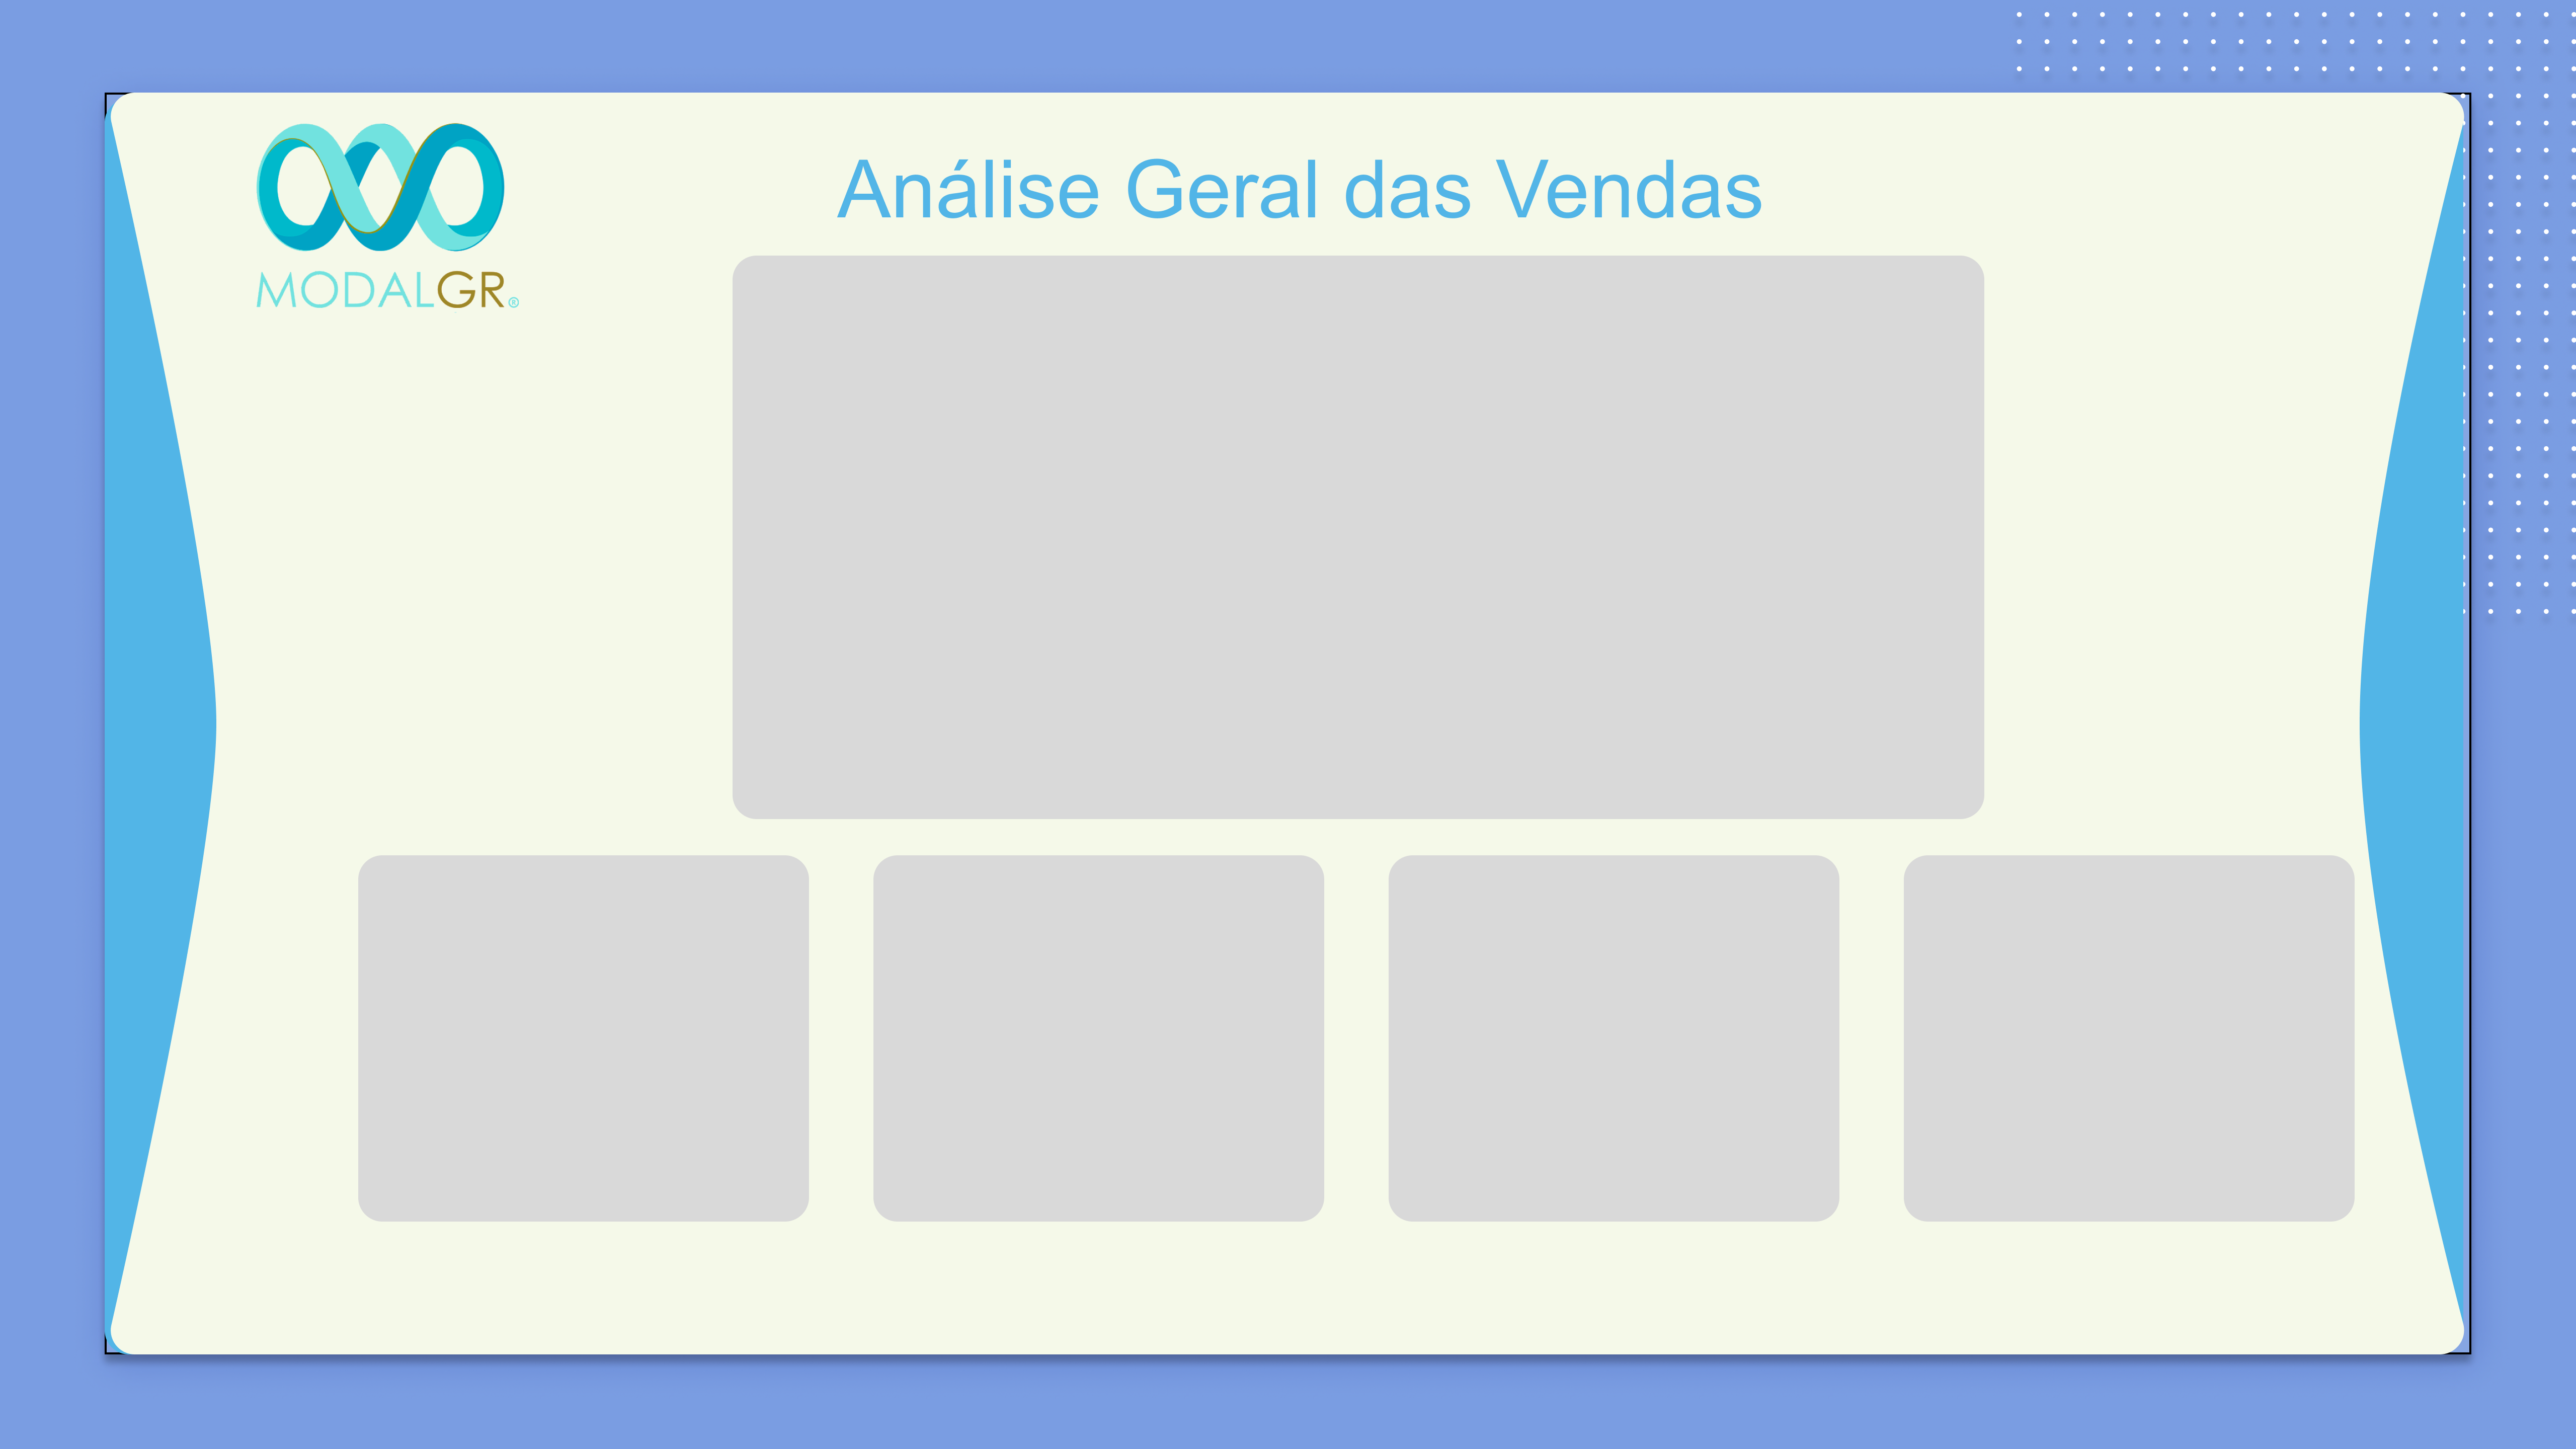

The page's visual inventory and layout, read from the dashboard file:
{"tool":"powerbi","page":{"name":"Grupo de Análise 1: Vendas Gerais","canvas":[1280,720],"ordinal":0},"visuals":[{"type":"card","title":"Margem de Lucro Média","fields":{"Values":["Vendas.Margem de Lucro Media"]},"box":[948.2,449.3,222.5,178.6],"z":0},{"type":"card","title":"Contagem de total de vendas","fields":{"Values":["Vendas.Total de Vendas"]},"box":[178.6,449.3,225.4,184.3],"z":1000},{"type":"card","title":"Valor Médio de Venda","fields":{"Values":["Vendas.Valor Medio de Venda"]},"box":[433.7,449.3,226.8,182.8],"z":2000},{"type":"card","title":"Valor Médio de Comissão","fields":{"Values":["Vendas.Valor Medio de Comissão"]},"box":[695.9,449.3,226.8,182.8],"z":3000},{"type":"funnel","fields":{"Y":["Vendas.Receita Total","Vendas.Lucro Total","Vendas.Custo Total"]},"box":[370,131.4,605.7,287.1],"z":4000},{"type":"actionButton","box":[1180.6,340.2,42.5,39.7],"z":5000}]}

Visuals, with their boxes in screenshot pixels (x1, y1, x2, y2), scaled from the page's 1280x720 canvas onto the 2576x1449 screenshot:
"Margem de Lucro Média" card: 1908:904:2356:1264
"Contagem de total de vendas" card: 359:904:813:1275
"Valor Médio de Venda" card: 873:904:1329:1272
"Valor Médio de Comissão" card: 1401:904:1857:1272
funnel - Vendas.Receita Total x Vendas.Lucro Total: 745:265:1964:842
actionButton: 2376:685:2461:765
